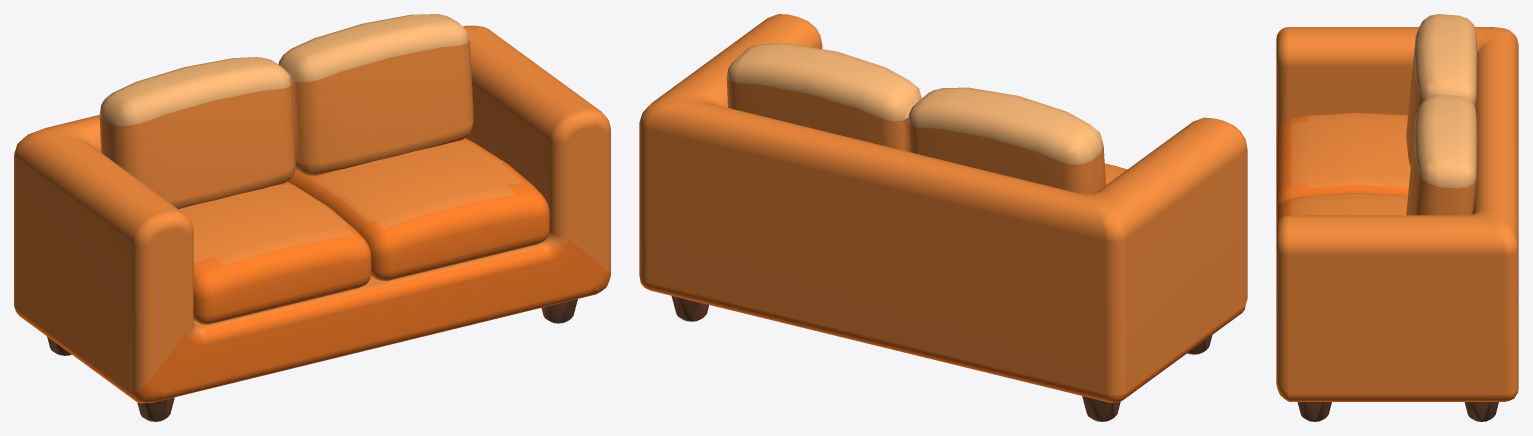
File: sofa_natal_dois_lugares_laranja_pacote.glb
3 renders of one model, left to right at view 1: azimuth 30°, elevation 25°; view 2: azimuth 150°, elevation 25°; view 3: azimuth 270°, elevation 25°, orthographic. The views are drawn at different scales.
Visible parts, largest first — view 1: sofa_natal_dois_lugares_laranja_pacote; view 2: sofa_natal_dois_lugares_laranja_pacote; view 3: sofa_natal_dois_lugares_laranja_pacote.
Boxes of the visible parts, left/top/right/bottom form: sofa_natal_dois_lugares_laranja_pacote: left=14, top=14, right=610, bottom=421; sofa_natal_dois_lugares_laranja_pacote: left=639, top=14, right=1247, bottom=421; sofa_natal_dois_lugares_laranja_pacote: left=1276, top=14, right=1518, bottom=421.
Bounding box in the file's own units: 1.61 × 0.8621 × 0.765.
Materials: 1 (1 with a texture image).
